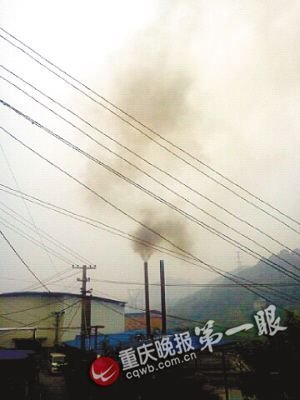dust: (114, 211, 194, 264)
